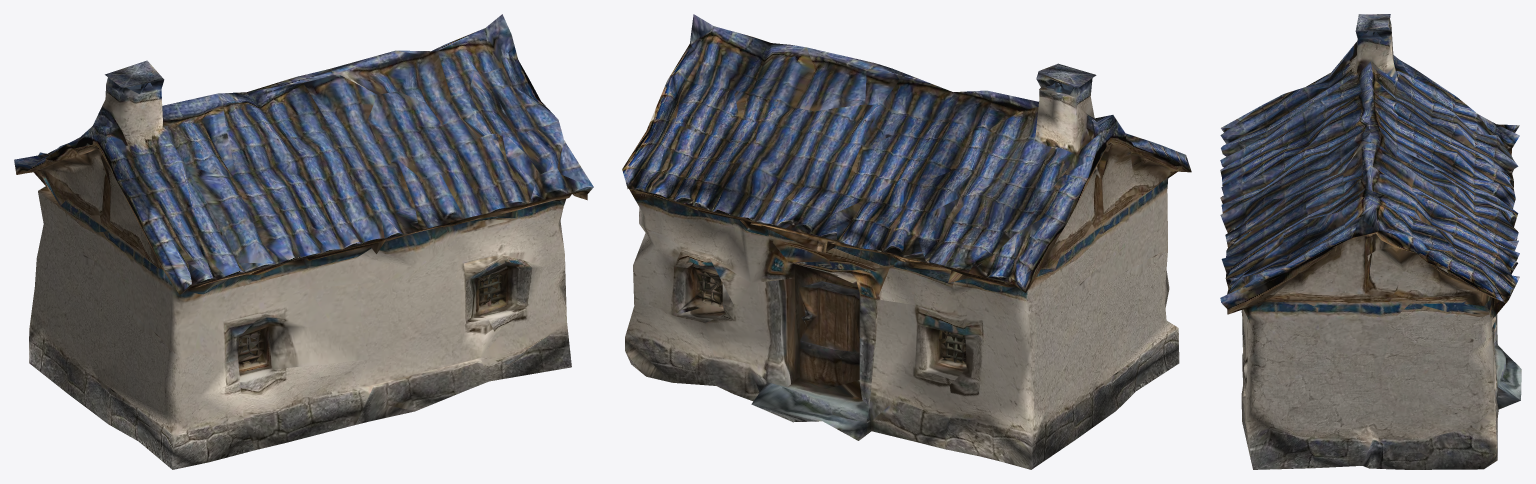
File: house_generic_a.glb
The picture shows the model from 3 angles, left to right: view 1: azimuth 30°, elevation 25°; view 2: azimuth 150°, elevation 25°; view 3: azimuth 270°, elevation 25°; orthographic projection. The views are drawn at different scales.
Visible parts, largest first — view 1: tripo_node_47480820-845d-4a85-95c8-4115cd9d7e76; view 2: tripo_node_47480820-845d-4a85-95c8-4115cd9d7e76; view 3: tripo_node_47480820-845d-4a85-95c8-4115cd9d7e76.
Part boxes in pixels (bbox=[...]): tripo_node_47480820-845d-4a85-95c8-4115cd9d7e76: bbox=[14, 14, 593, 469]; tripo_node_47480820-845d-4a85-95c8-4115cd9d7e76: bbox=[622, 14, 1191, 469]; tripo_node_47480820-845d-4a85-95c8-4115cd9d7e76: bbox=[1220, 14, 1521, 469].
Size of the model in its own units: 0.9609 by 0.741 by 0.6863.
1 material, 1 textured.
